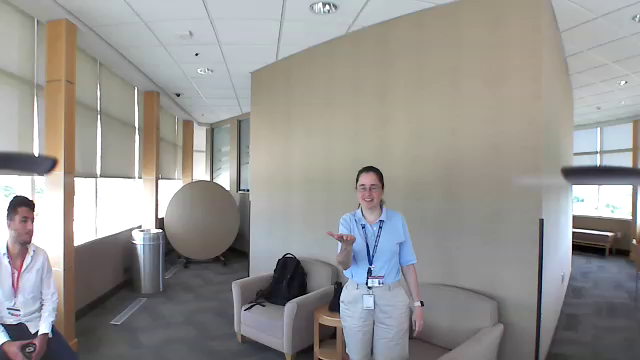land: (321, 225, 361, 247)
